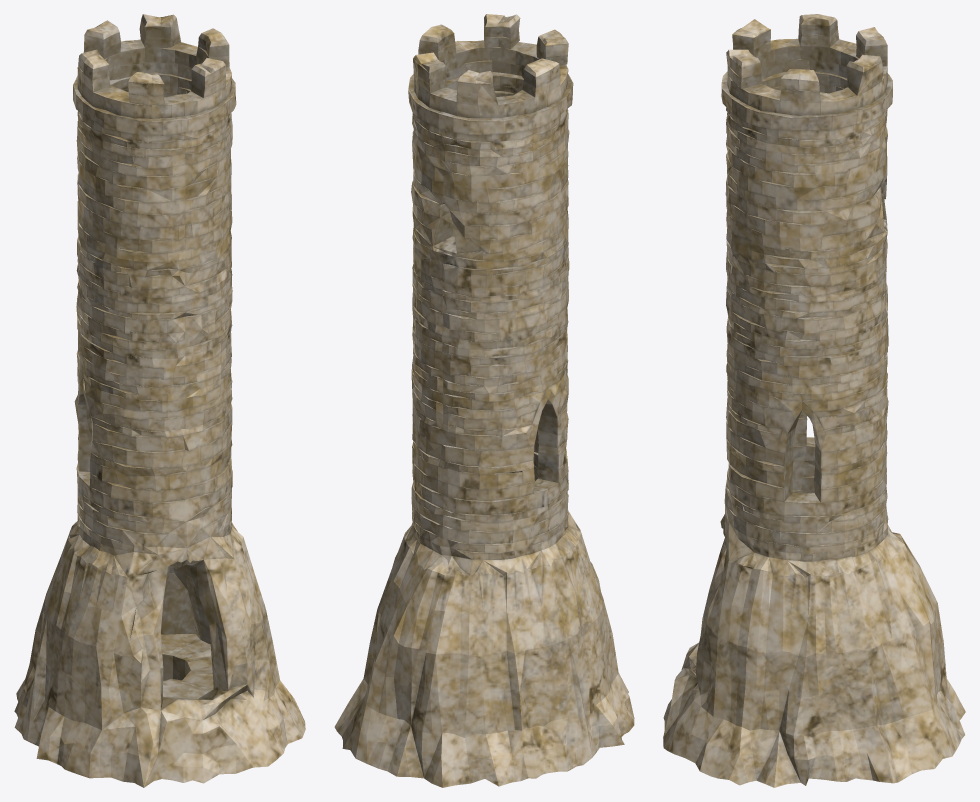
File: RuinTower.gltf
3 renders of one model, left to right at view 1: azimuth 30°, elevation 25°; view 2: azimuth 150°, elevation 25°; view 3: azimuth 270°, elevation 25°, orthographic.
Parts seen in each view (by area): view 1: small; view 2: small; view 3: small.
Boxes of the visible parts, x1,y1,x2,y2 form: small: (14,14,305,787); small: (334,14,634,787); small: (663,14,965,787).
Bounding box in the file's own units: 48.23 × 126 × 50.01.
